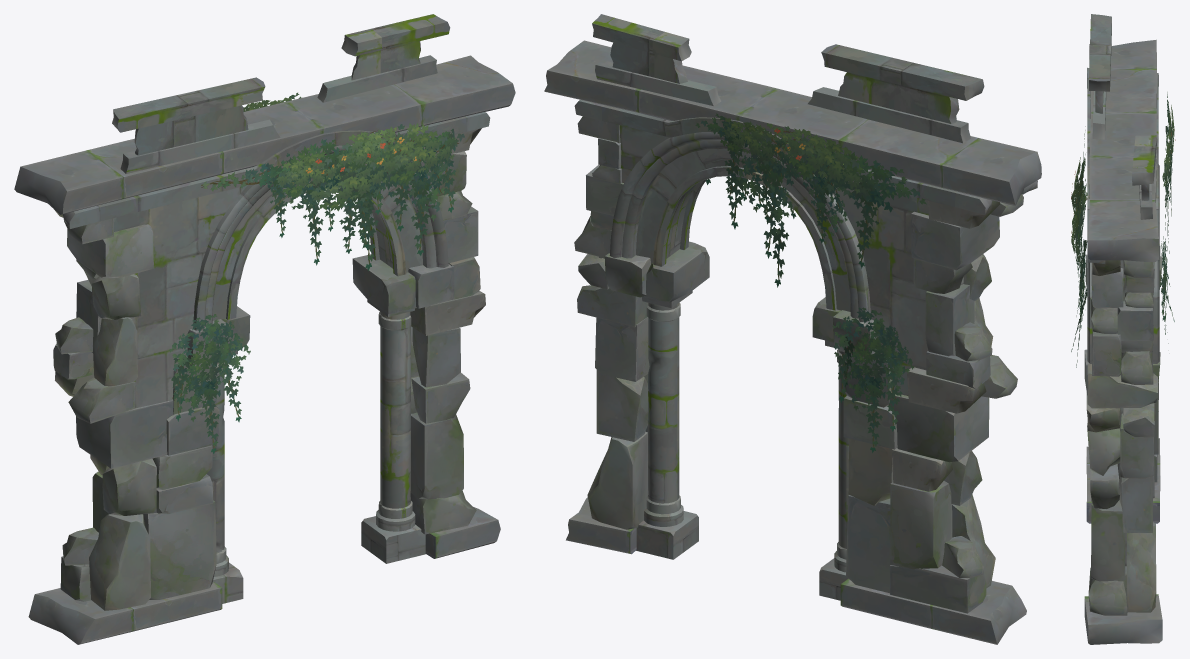
The model's file is Area_MdBuild_SdArch02_Group.fbx.
3 views of the same model, side by side, from view 1: azimuth 30°, elevation 25°; view 2: azimuth 150°, elevation 25°; view 3: azimuth 270°, elevation 25° (orthographic). The views are drawn at different scales.
Parts seen in each view (by area): view 1: Area_MdBuild_SdArch02_Lod0, Stages_LYLvy08_Vo (1), Stages_LYLvy03_Vo (1), Stages_LYLvy86_Vo (1); view 2: Area_MdBuild_SdArch02_Lod0, Stages_LYLvy02_Vo (1), Stages_LYLvy86_Vo (2); view 3: Area_MdBuild_SdArch02_Lod0, Stages_LYLvy08_Vo (1), Stages_LYLvy02_Vo (1), Stages_LYLvy03_Vo (1), Stages_LYLvy86_Vo (2), Stages_LYLvy86_Vo (1).
Boxes of the visible parts, x1=… form: Area_MdBuild_SdArch02_Lod0: x1=14, y1=14, x2=515, y2=644; Stages_LYLvy08_Vo (1): x1=309, y1=123, x2=464, y2=270; Stages_LYLvy03_Vo (1): x1=201, y1=130, x2=425, y2=265; Stages_LYLvy86_Vo (1): x1=169, y1=314, x2=250, y2=453; Area_MdBuild_SdArch02_Lod0: x1=544, y1=14, x2=1041, y2=644; Stages_LYLvy02_Vo (1): x1=695, y1=113, x2=926, y2=287; Stages_LYLvy86_Vo (2): x1=832, y1=307, x2=913, y2=452; Area_MdBuild_SdArch02_Lod0: x1=1084, y1=14, x2=1162, y2=644; Stages_LYLvy08_Vo (1): x1=1071, y1=183, x2=1087, y2=328; Stages_LYLvy02_Vo (1): x1=1162, y1=92, x2=1175, y2=262; Stages_LYLvy03_Vo (1): x1=1071, y1=126, x2=1086, y2=267; Stages_LYLvy86_Vo (2): x1=1160, y1=236, x2=1174, y2=343; Stages_LYLvy86_Vo (1): x1=1071, y1=247, x2=1087, y2=367.
Size of the model in its own units: 20.29 by 21.56 by 4.45.
5 materials, 5 textured.
